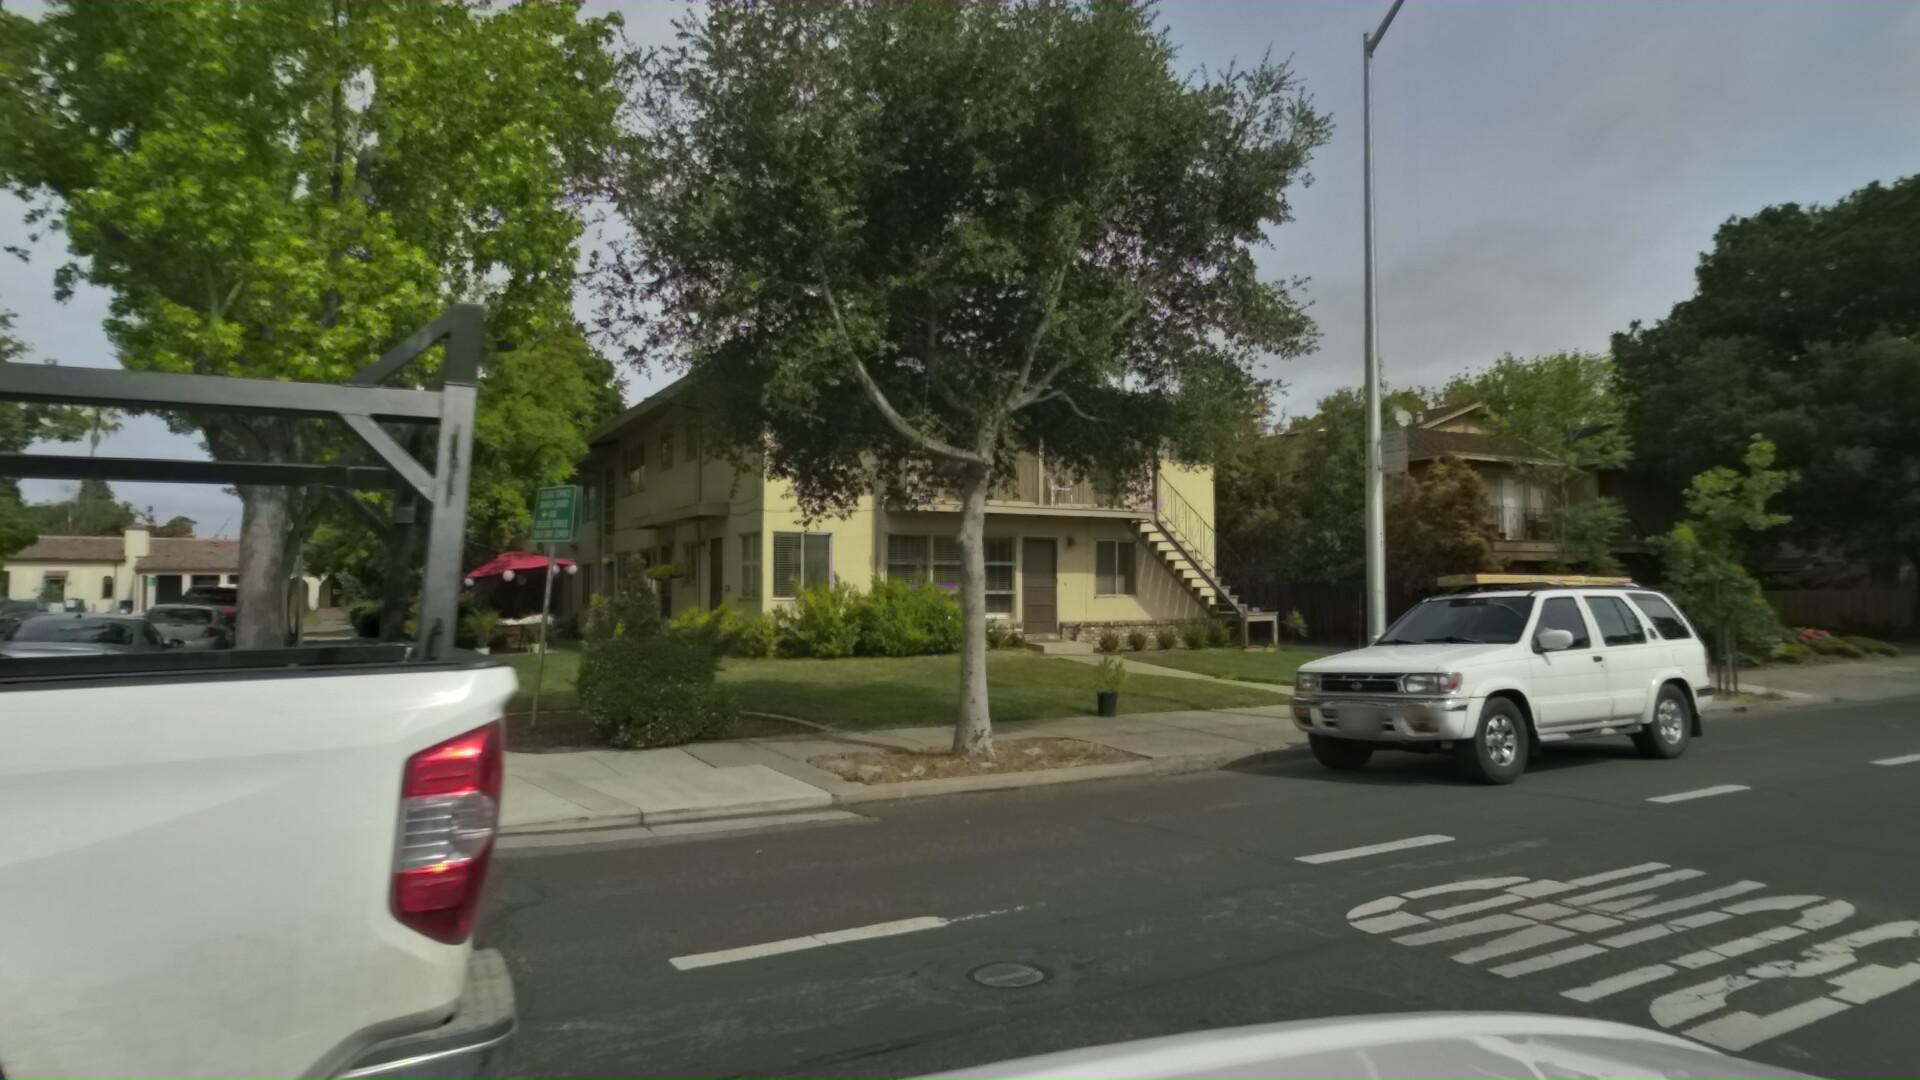car: (1221, 560, 1718, 828), (0, 607, 152, 748), (94, 599, 218, 679), (137, 579, 251, 663), (189, 588, 265, 644), (0, 597, 51, 632), (0, 601, 8, 644)
truck: (210, 579, 260, 616)
